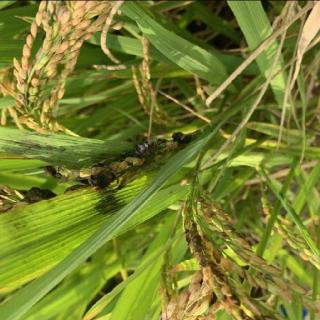Gosong-Palsu: (87, 162, 117, 190), (20, 185, 58, 205), (132, 136, 160, 158), (172, 129, 192, 145)
